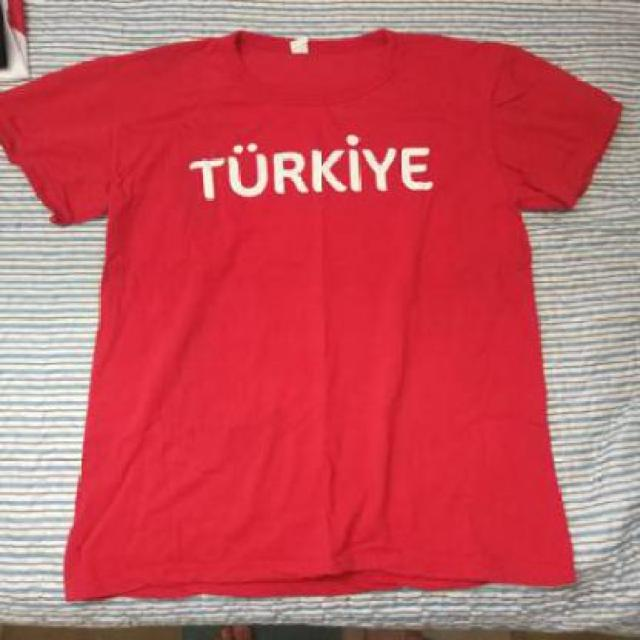shirt: (0, 20, 629, 605)
